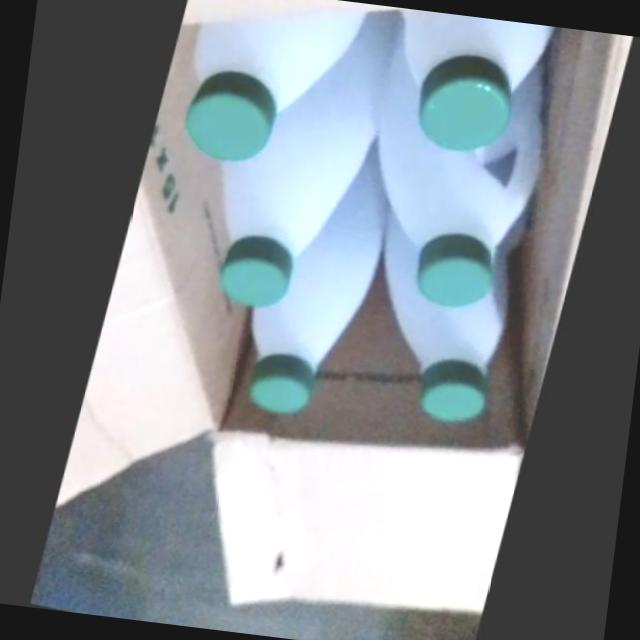chai_nhua: (211, 4, 391, 306), (370, 40, 533, 302), (243, 133, 384, 411), (375, 200, 507, 416), (175, 3, 355, 158), (391, 6, 540, 146)
